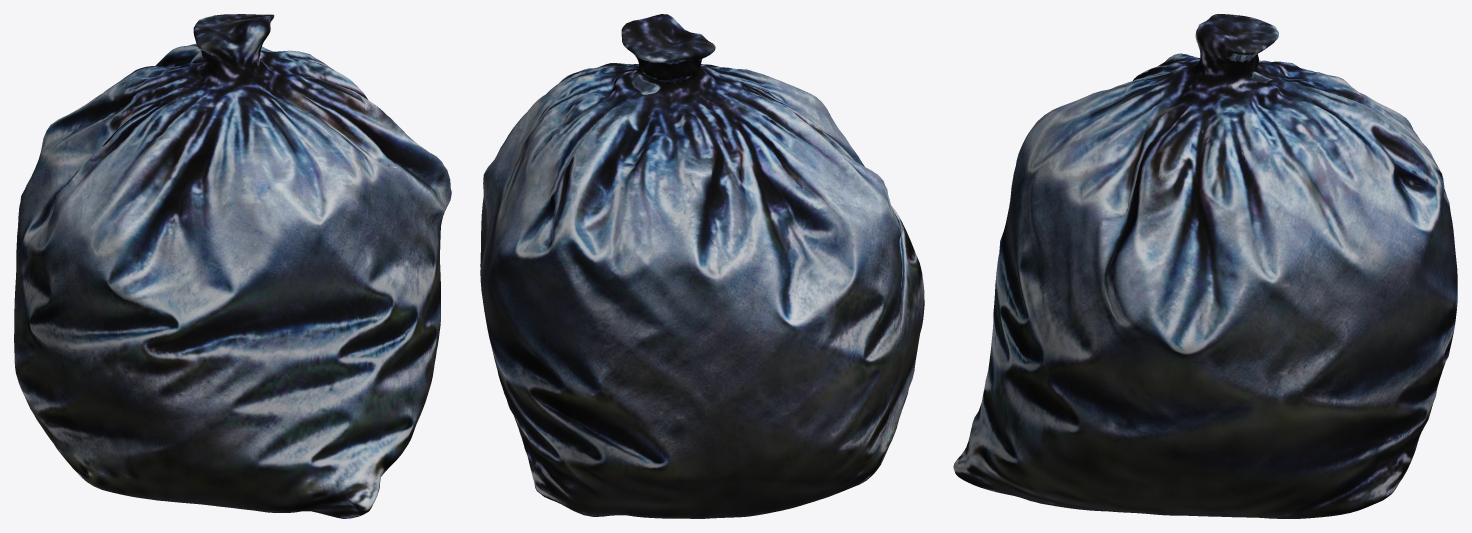
File: garbage_bag.glb
The picture shows the model from 3 angles, left to right: view 1: azimuth 30°, elevation 25°; view 2: azimuth 150°, elevation 25°; view 3: azimuth 270°, elevation 25°; orthographic projection. The views are drawn at different scales.
Parts seen in each view (by area): view 1: garbage_bag; view 2: garbage_bag; view 3: garbage_bag.
Part boxes in pixels (left/top/right/bottom): garbage_bag: left=14, top=14, right=451, bottom=518; garbage_bag: left=480, top=14, right=924, bottom=518; garbage_bag: left=953, top=14, right=1457, bottom=518.
Size of the model in its own units: 0.914 by 0.9967 by 0.9521.
Materials: 1 (1 with a texture image).
